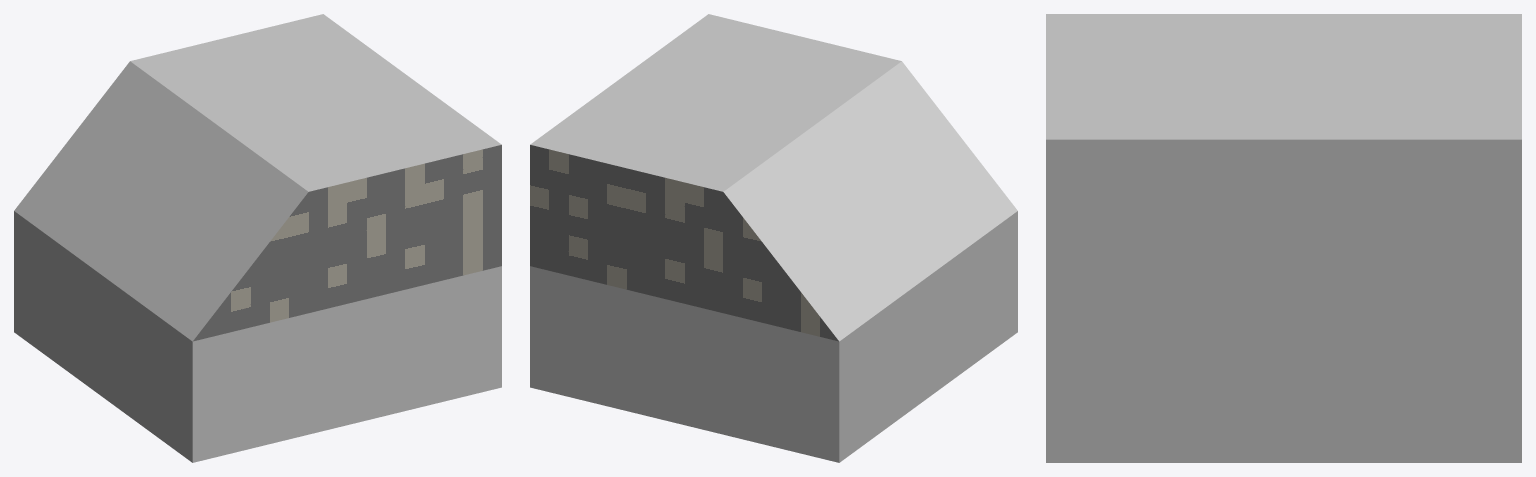
The model's file is slope100_shave10_base6.obj.
3 renders of one model, left to right at view 1: azimuth 30°, elevation 25°; view 2: azimuth 150°, elevation 25°; view 3: azimuth 270°, elevation 25°, orthographic. The views are drawn at different scales.
Bounding box in the file's own units: 1 × 0.75 × 1.
